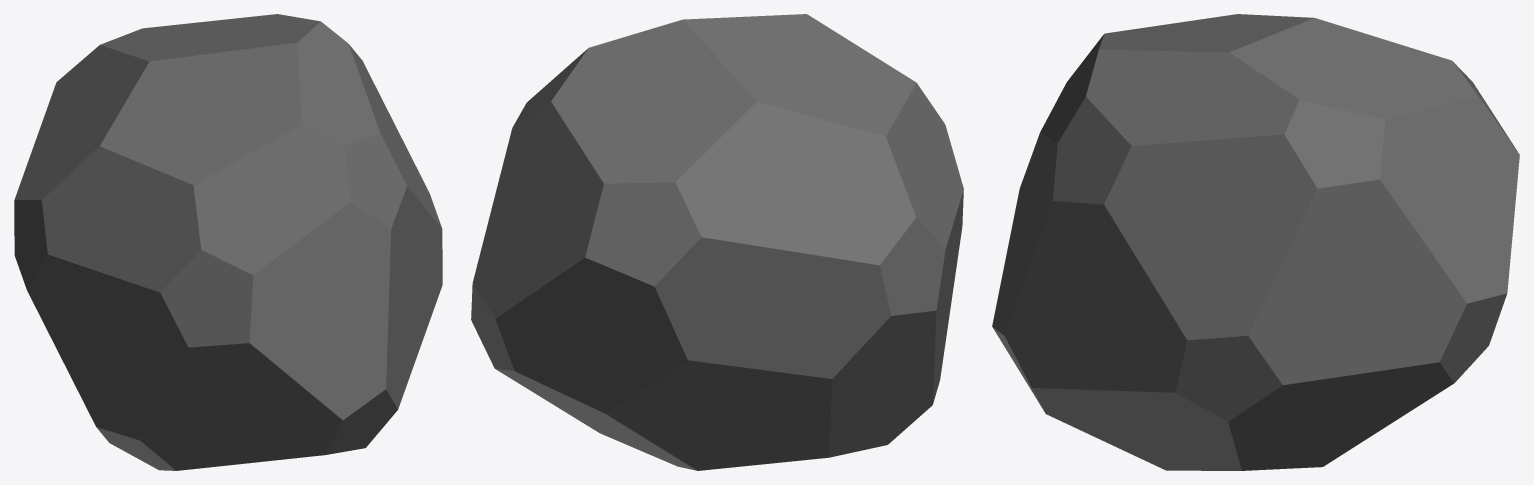
File: rock_1b_001.fbx
The picture shows the model from 3 angles, left to right: view 1: azimuth 30°, elevation 25°; view 2: azimuth 150°, elevation 25°; view 3: azimuth 270°, elevation 25°; orthographic projection. The views are drawn at different scales.
Visible parts, largest first — view 1: rock_1b.001; view 2: rock_1b.001; view 3: rock_1b.001.
Boxes of the visible parts, x1,y1,x2,y2 form: rock_1b.001: (14, 14, 442, 470); rock_1b.001: (471, 14, 963, 470); rock_1b.001: (992, 14, 1519, 470).
Bounding box in the file's own units: 228 × 220 × 242.
